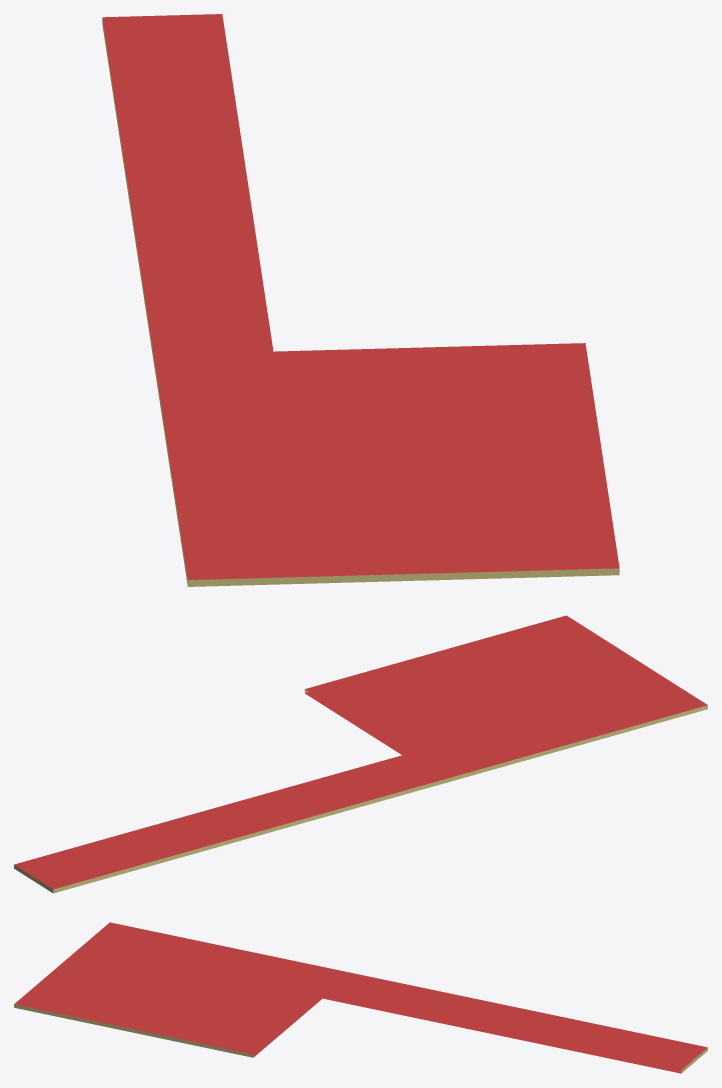
The picture shows the model from 3 angles, top to bottom: view 1: azimuth 30°, elevation 25°; view 2: azimuth 150°, elevation 25°; view 3: azimuth 270°, elevation 25°; orthographic projection. The views are drawn at different scales.
Size of the model in its own units: 9.21 by 18.27 by 0.1.
